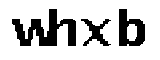b: (116, 8, 149, 51)
h: (48, 6, 78, 51)
w: (10, 17, 52, 51)
x: (81, 17, 110, 48)
